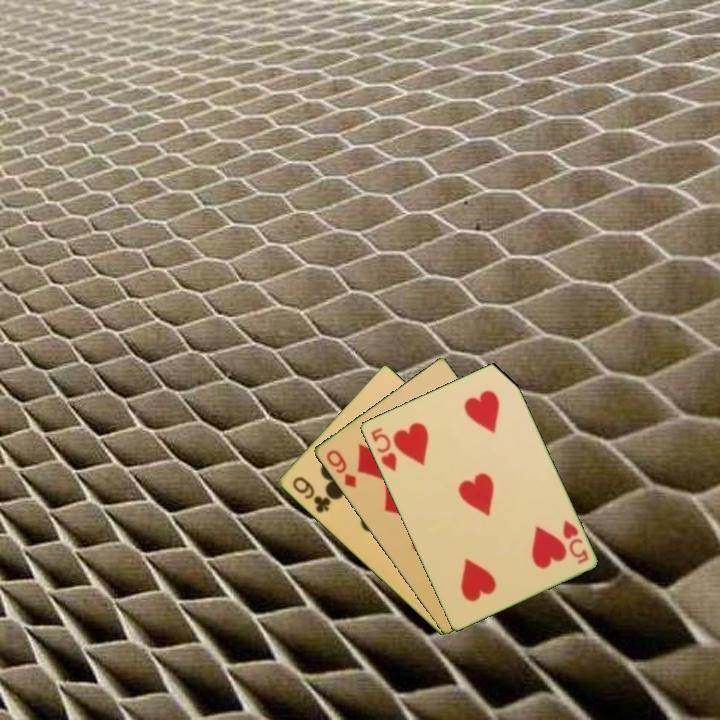5h: (367, 424, 399, 474), (559, 517, 591, 567)
9c: (288, 473, 333, 516)
9d: (322, 446, 359, 491)
